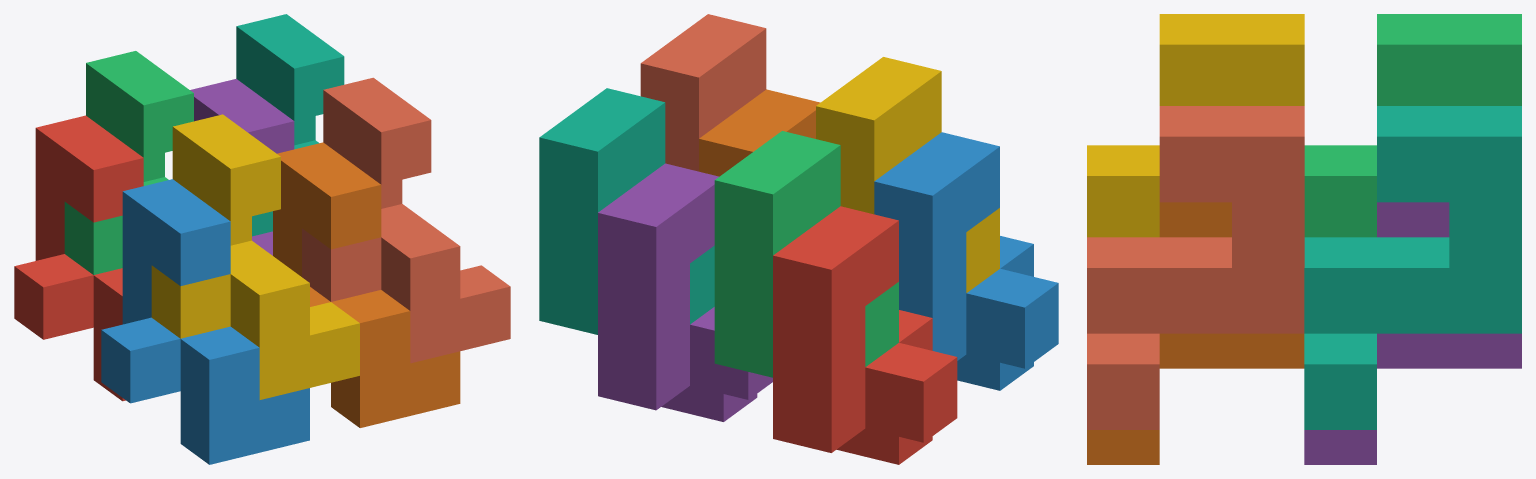
Rendered from tiling.obj.
3 renders of one model, left to right at view 1: azimuth 30°, elevation 25°; view 2: azimuth 150°, elevation 25°; view 3: azimuth 270°, elevation 25°, orthographic. The views are drawn at different scales.
Visible parts, largest first — view 1: copy_1_domain_2, copy_1_domain_4, copy_1_domain_8, copy_1_domain_6, copy_1_domain_1, copy_1_domain_3, copy_1_domain_7, copy_1_domain_5; view 2: copy_1_domain_1, copy_1_domain_5, copy_1_domain_2, copy_1_domain_3, copy_1_domain_7, copy_1_domain_4, copy_1_domain_8, copy_1_domain_6; view 3: copy_1_domain_8, copy_1_domain_7, copy_1_domain_4, copy_1_domain_3, copy_1_domain_6, copy_1_domain_5.
Boxes of the visible parts, box(x1,y1,x2,y2) form: copy_1_domain_2: box(101, 179, 309, 464); copy_1_domain_4: box(151, 114, 359, 399); copy_1_domain_8: box(302, 77, 510, 363); copy_1_domain_6: box(273, 142, 460, 427); copy_1_domain_1: box(14, 115, 143, 401); copy_1_domain_3: box(64, 51, 193, 274); copy_1_domain_7: box(236, 14, 344, 236); copy_1_domain_5: box(190, 79, 294, 255); copy_1_domain_1: box(773, 206, 957, 464); copy_1_domain_5: box(598, 163, 772, 421); copy_1_domain_2: box(874, 132, 1058, 390); copy_1_domain_3: box(714, 131, 898, 377); copy_1_domain_7: box(539, 88, 714, 334); copy_1_domain_4: box(816, 57, 999, 292); copy_1_domain_8: box(640, 14, 766, 171); copy_1_domain_6: box(699, 89, 820, 176); copy_1_domain_8: box(1087, 106, 1304, 429); copy_1_domain_7: box(1304, 106, 1521, 429); copy_1_domain_4: box(1087, 14, 1304, 237); copy_1_domain_3: box(1304, 14, 1521, 237); copy_1_domain_6: box(1087, 202, 1304, 464); copy_1_domain_5: box(1304, 202, 1521, 464).
Bounding box in the file's own units: 7 × 5 × 6.
